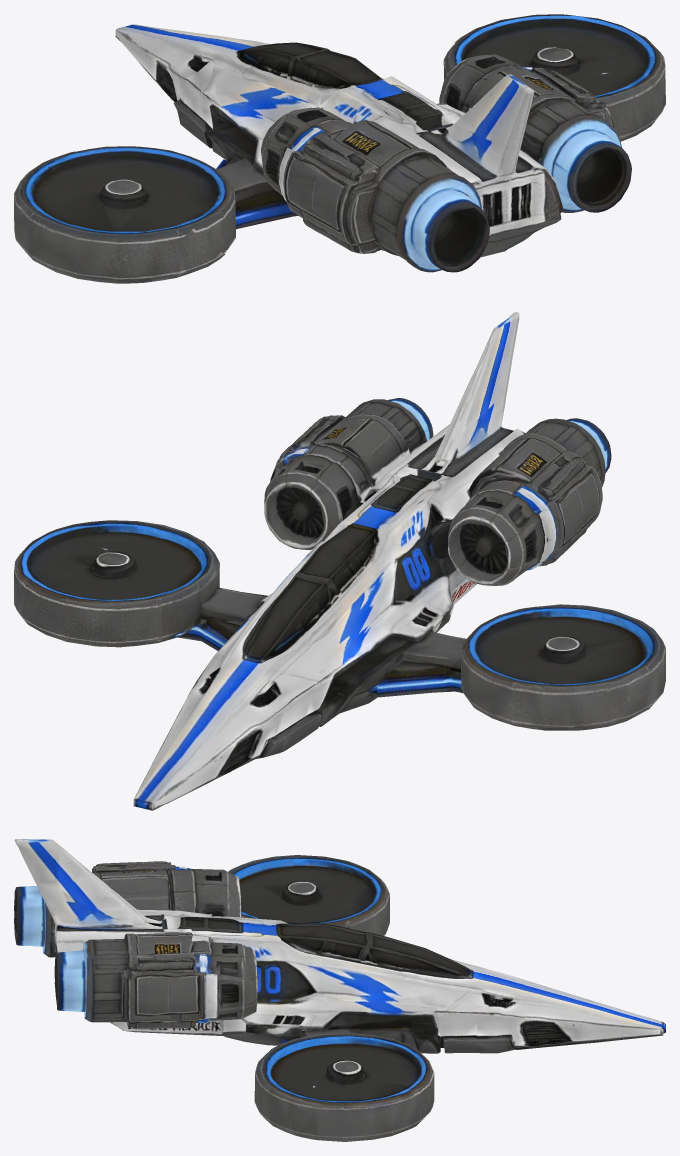
File: drone-kilat.glb
3 views of the same model, one above another, from view 1: azimuth 30°, elevation 25°; view 2: azimuth 150°, elevation 25°; view 3: azimuth 270°, elevation 25° (orthographic). The views are drawn at different scales.
Parts seen in each view (by area): view 1: drone-kilat; view 2: drone-kilat; view 3: drone-kilat.
Boxes of the visible parts, <box> form: drone-kilat: <box>14,14,665,283</box>; drone-kilat: <box>14,312,665,810</box>; drone-kilat: <box>14,839,665,1141</box>.
Size of the model in its own units: 1.7 by 0.6333 by 1.85.
Materials: 1 (1 with a texture image).
